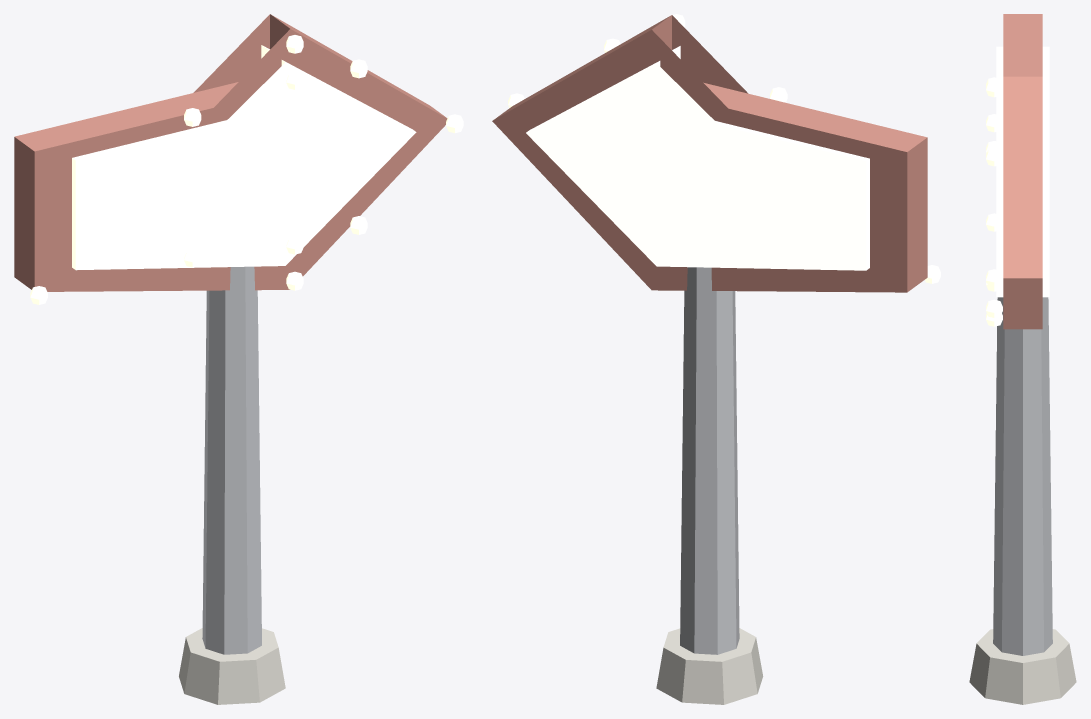
The model's file is retro-diner-and-roadside-motel-arrow-sign-frame-31174150__37369.glb.
3 renders of one model, left to right at view 1: azimuth 30°, elevation 25°; view 2: azimuth 150°, elevation 25°; view 3: azimuth 270°, elevation 25°, orthographic. The views are drawn at different scales.
Parts seen in each view (by area): view 1: arrow-sign-frame-neon, arrow-sign-frame-coral, arrow-sign-frame-chrome, arrow-sign-frame-cream; view 2: arrow-sign-frame-neon, arrow-sign-frame-coral, arrow-sign-frame-chrome, arrow-sign-frame-cream; view 3: arrow-sign-frame-chrome, arrow-sign-frame-coral, arrow-sign-frame-cream, arrow-sign-frame-neon.
Boxes of the visible parts, x1=… form: arrow-sign-frame-neon: x1=30, y1=35, x2=463, y2=304; arrow-sign-frame-coral: x1=14, y1=14, x2=447, y2=291; arrow-sign-frame-chrome: x1=202, y1=266, x2=261, y2=654; arrow-sign-frame-cream: x1=179, y1=628, x2=285, y2=704; arrow-sign-frame-neon: x1=508, y1=14, x2=940, y2=283; arrow-sign-frame-coral: x1=492, y1=15, x2=927, y2=292; arrow-sign-frame-chrome: x1=680, y1=267, x2=739, y2=654; arrow-sign-frame-cream: x1=656, y1=628, x2=763, y2=704; arrow-sign-frame-chrome: x1=993, y1=297, x2=1052, y2=655; arrow-sign-frame-coral: x1=1003, y1=14, x2=1042, y2=329; arrow-sign-frame-cream: x1=969, y1=629, x2=1076, y2=704; arrow-sign-frame-neon: x1=986, y1=46, x2=1049, y2=326.
Bounding box in the file's own units: 2.71 × 3.88 × 0.6.
